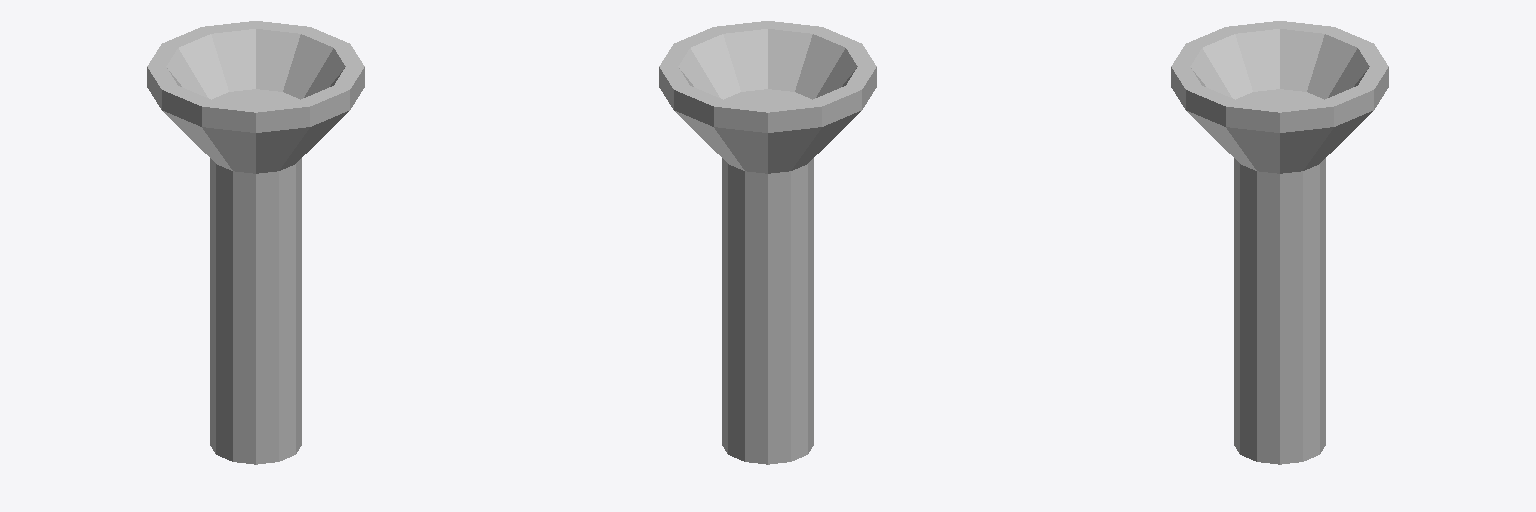
File: Eddy_Light.obj
The picture shows the model from 3 angles: view 1: azimuth 30°, elevation 25°; view 2: azimuth 150°, elevation 25°; view 3: azimuth 270°, elevation 25°; orthographic projection.
Parts seen in each view (by area): view 1: Cylinder.001_Cylinder; view 2: Cylinder.001_Cylinder; view 3: Cylinder.001_Cylinder.
Part boxes in pixels (x1,y1,x2,y2): Cylinder.001_Cylinder: (147,21,364,464); Cylinder.001_Cylinder: (659,21,876,464); Cylinder.001_Cylinder: (1171,21,1388,464).
Bounding box in the file's own units: 0.2374 × 0.4557 × 0.2374.